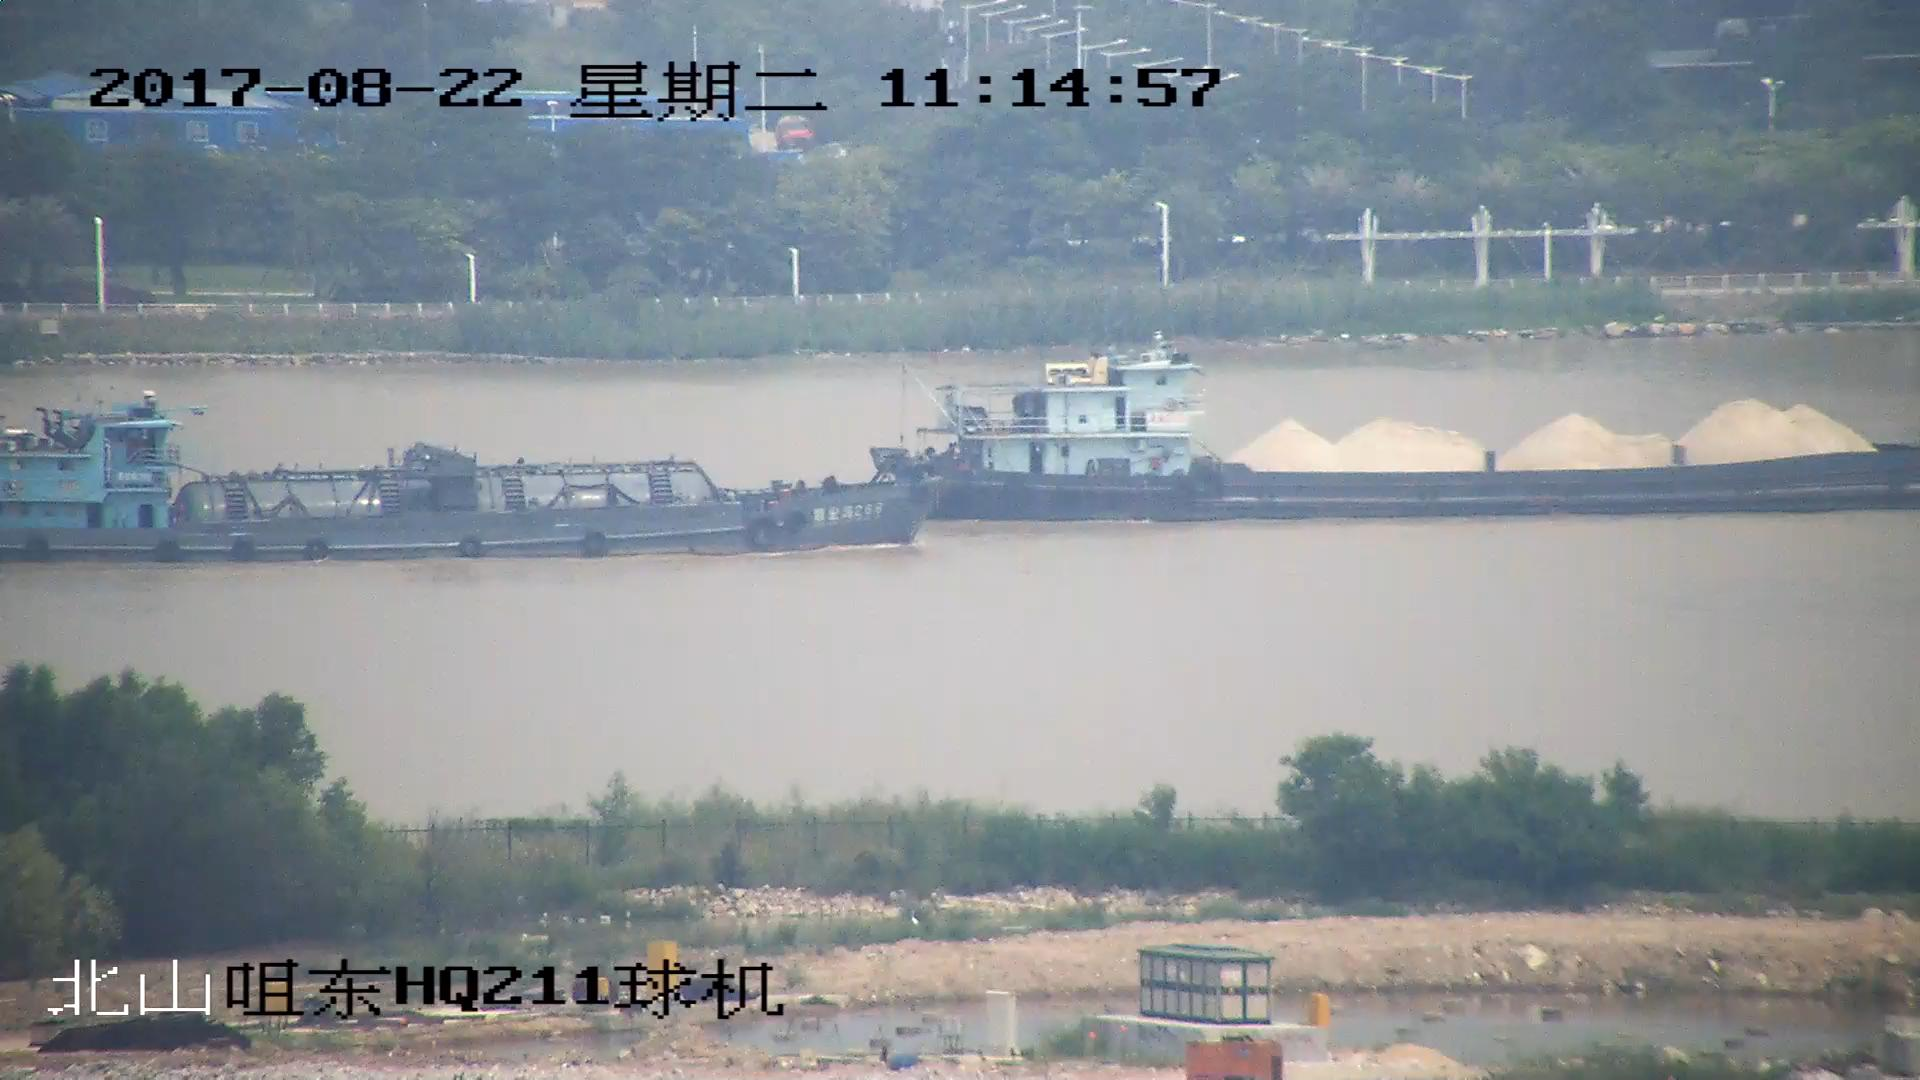bulk cargo carrier: (1, 399, 947, 567)
ore carrier: (880, 354, 1920, 521)
